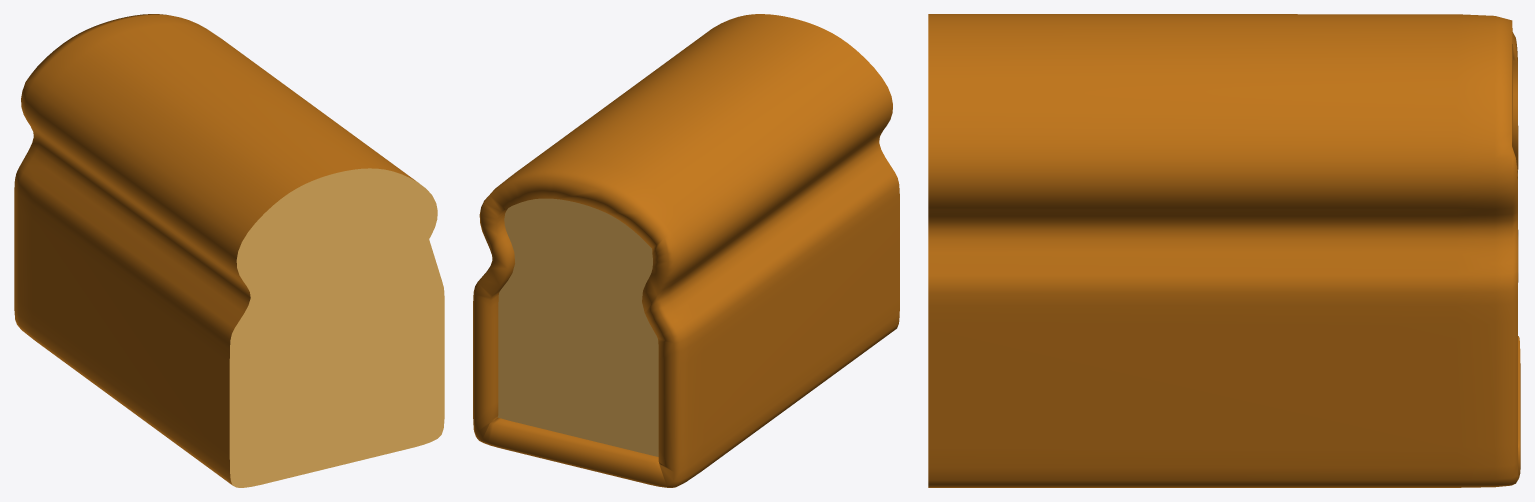
The model's file is Bread4.fbx.
3 views of the same model, side by side, from view 1: azimuth 30°, elevation 25°; view 2: azimuth 150°, elevation 25°; view 3: azimuth 270°, elevation 25° (orthographic). The views are drawn at different scales.
Visible parts, largest first — view 1: Bread4; view 2: Bread4; view 3: Bread4.
Boxes of the visible parts, bbox=[...] form: Bread4: bbox=[14, 14, 444, 487]; Bread4: bbox=[473, 14, 899, 487]; Bread4: bbox=[928, 14, 1520, 487].
Size of the model in its own units: 1.08 by 1.93 by 1.41.
